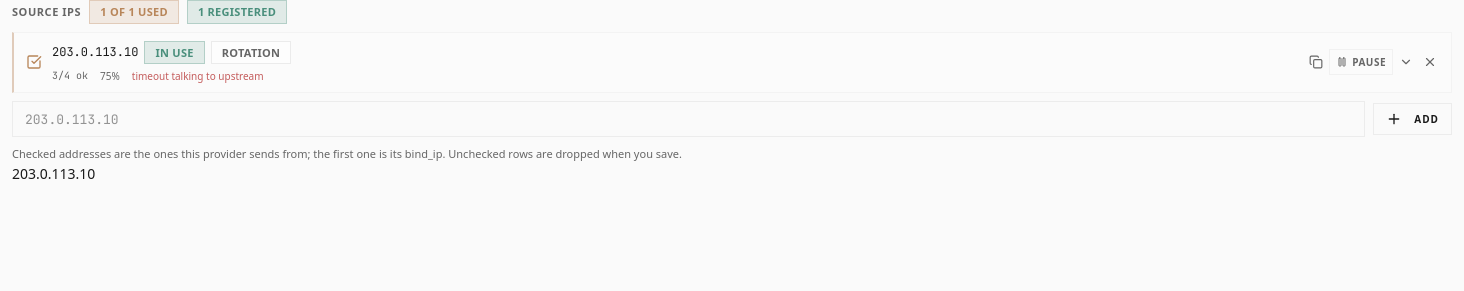
Test case: IpListEditor with live exits › expands the full detail of an address
The width and height of the screenshot is (1464, 291).
Click the button named "Show details for 203.0.113.10": [1406, 62] box [1395,51,1417,73]
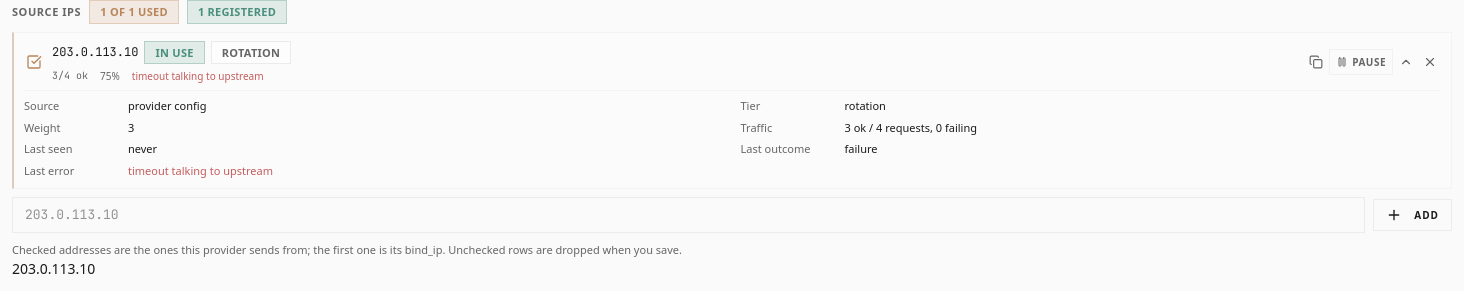
Expected: the text "Source" is shown, [24,98,59,113]
Expected: the text "provider config" is shown, [128,97,206,115]
Expected: the text "Last outcome" is shown, [740,141,810,156]
Click the button named "Hide details for 203.0.113.10": [1406, 62] box [1395,51,1417,73]
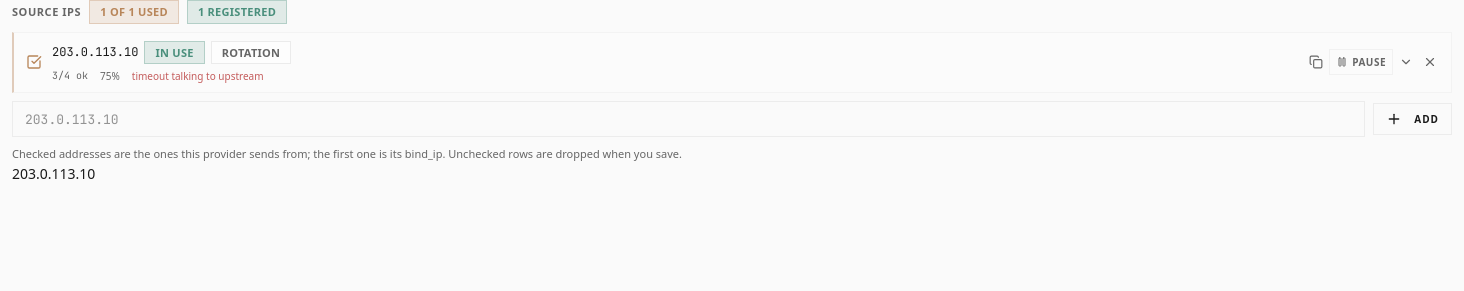
Expected: the text "Last outcome" is gone
